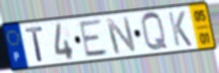4: (53, 21, 76, 62)
E: (77, 17, 111, 59)
K: (166, 10, 194, 48)
N: (104, 15, 139, 56)
Q: (140, 11, 170, 54)
T: (24, 25, 45, 63)
